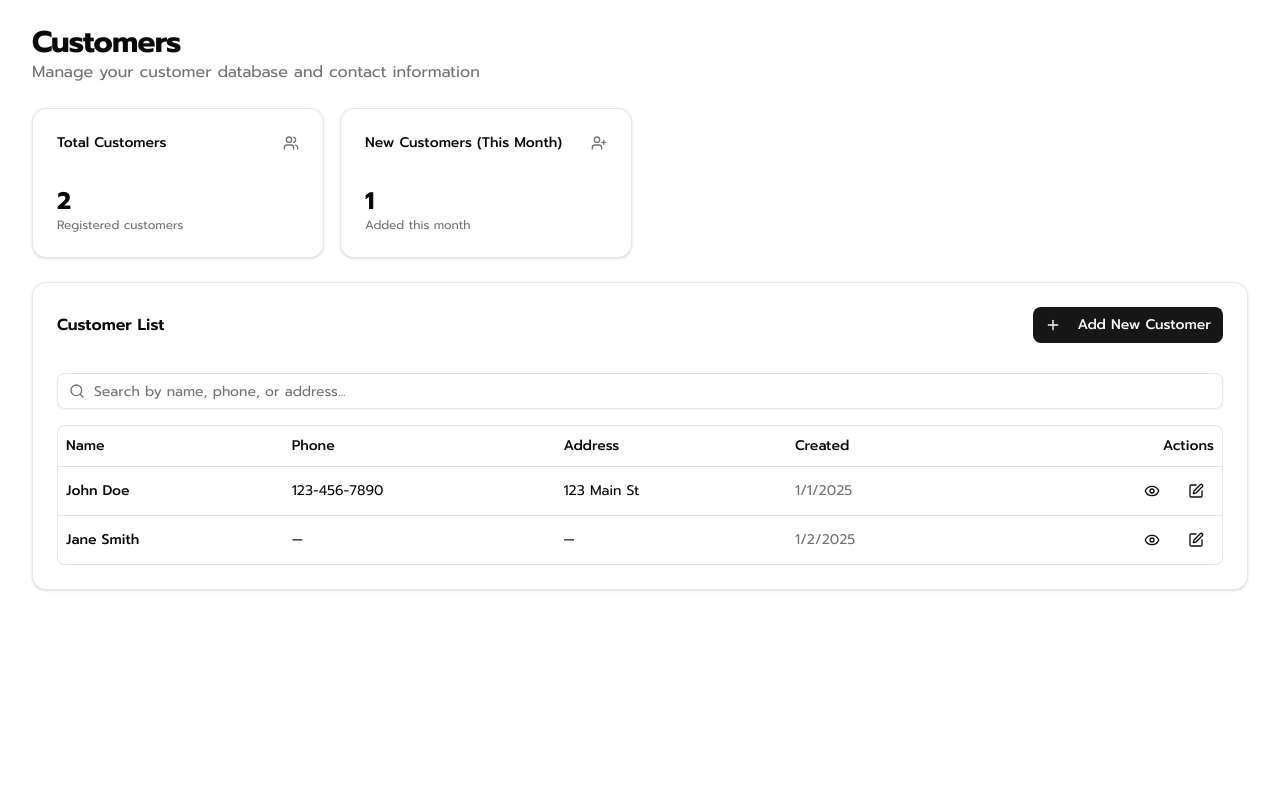
Test: CustomersPage › Edit Customer Functionality › Edit Dialog Opening › pre-populates form correctly for customer with null values
The width and height of the screenshot is (1280, 800).
Click the button named "edit customer" in the row of "Jane Smith". click: click(1196, 540)
box: [1178,524,1214,556]
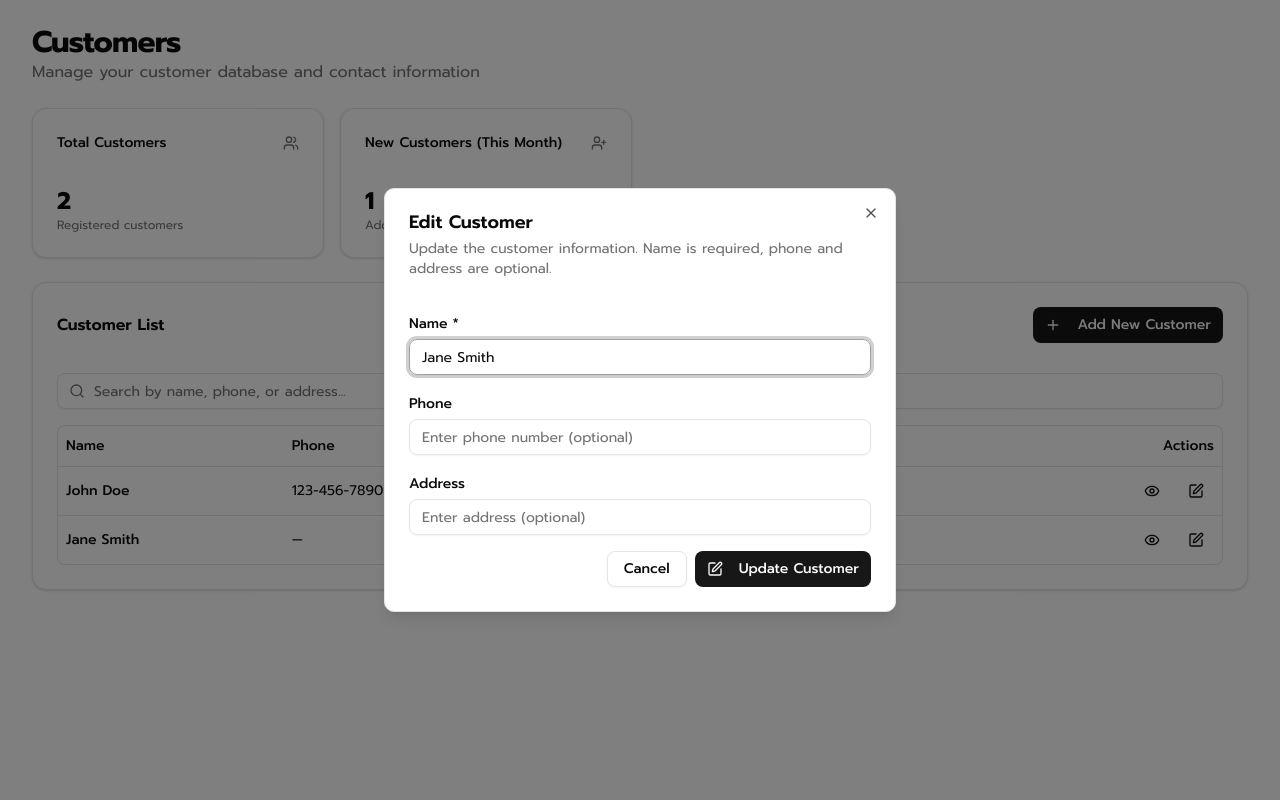
Now the field showing "Jane Smith" is shown, box [409,339,871,375]
Now the field labelled "Phone" is empty, box [409,419,871,455]
Now the field labelled "Address" is empty, box [409,499,871,535]
